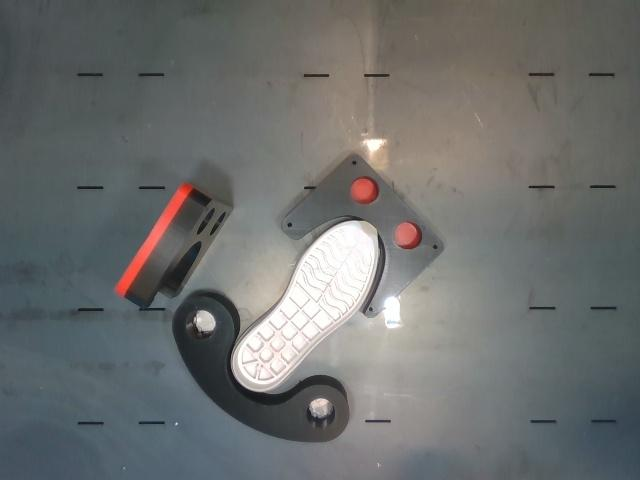shoes: (233, 221, 377, 390)
